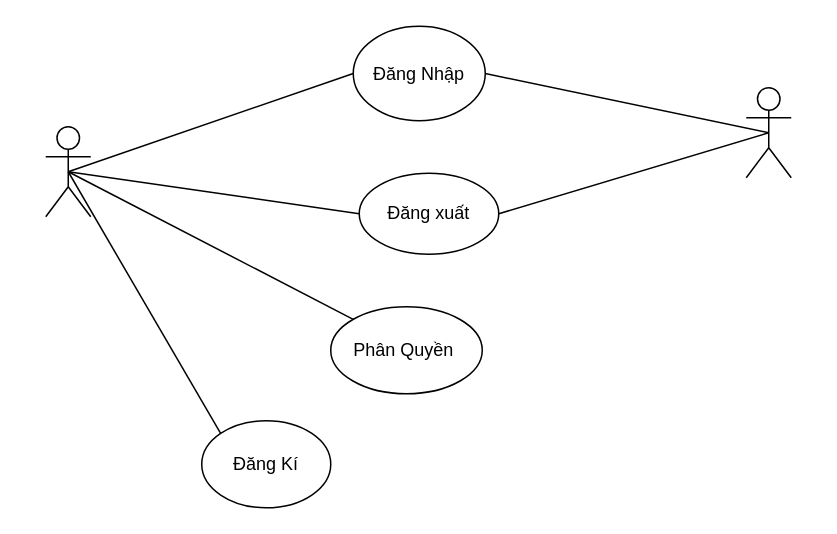
The diagram is 837 pixels wide and 534 high, and some of its shapes have lost their labels. The centre of each missing label's shape, as x and y in pixels:
"Acc user 0" goes at [67,171].
"Acc user n" goes at [768,132].
